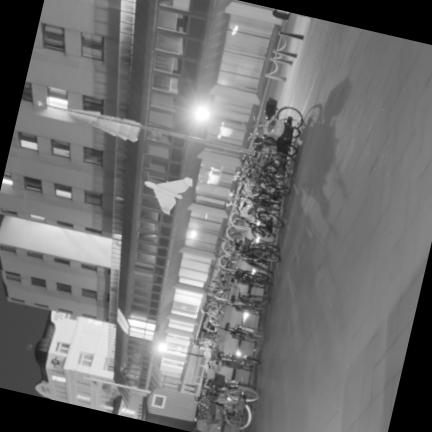Shahed: (144, 176, 192, 213)
